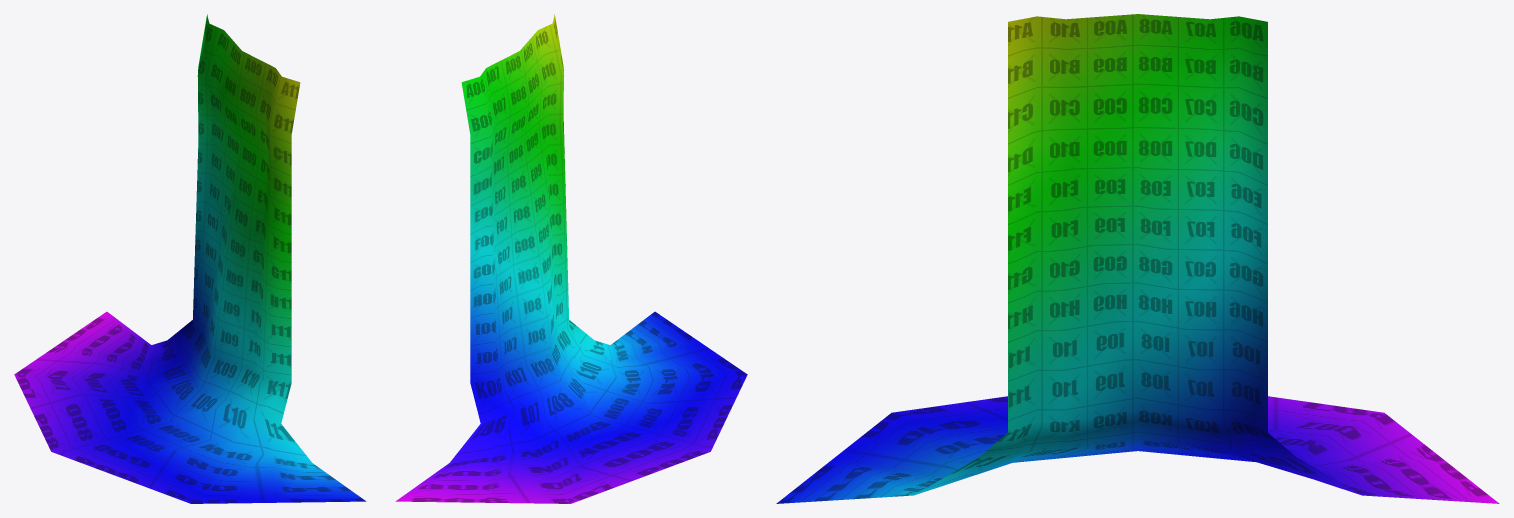
Rendered from fogwall_01.fbx.
3 views of the same model, side by side, from view 1: azimuth 30°, elevation 25°; view 2: azimuth 150°, elevation 25°; view 3: azimuth 270°, elevation 25° (orthographic). The views are drawn at different scales.
Visible parts, largest first — view 1: fogwall_01; view 2: fogwall_01; view 3: fogwall_01.
Boxes of the visible parts, x1,y1,x2,y2 form: fogwall_01: [14, 14, 366, 503]; fogwall_01: [395, 14, 747, 503]; fogwall_01: [776, 14, 1499, 503].
Bounding box in the file's own units: 1.08 × 2.39 × 1.8.
